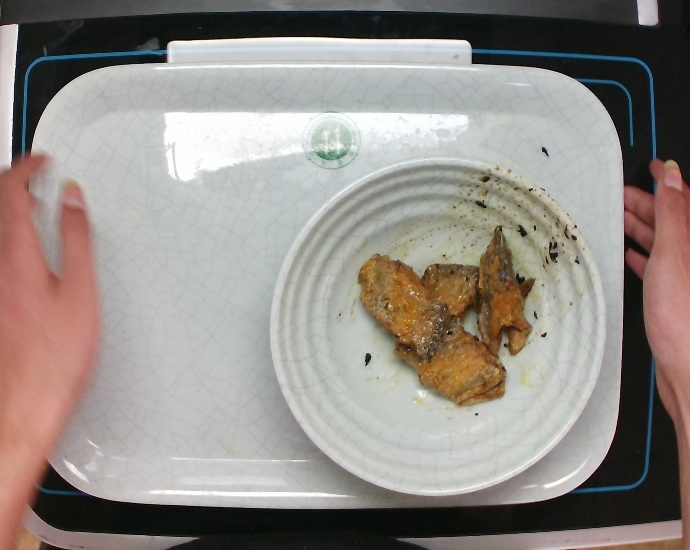JYsf-Da_Tang_Wan: (256, 149, 609, 501)
